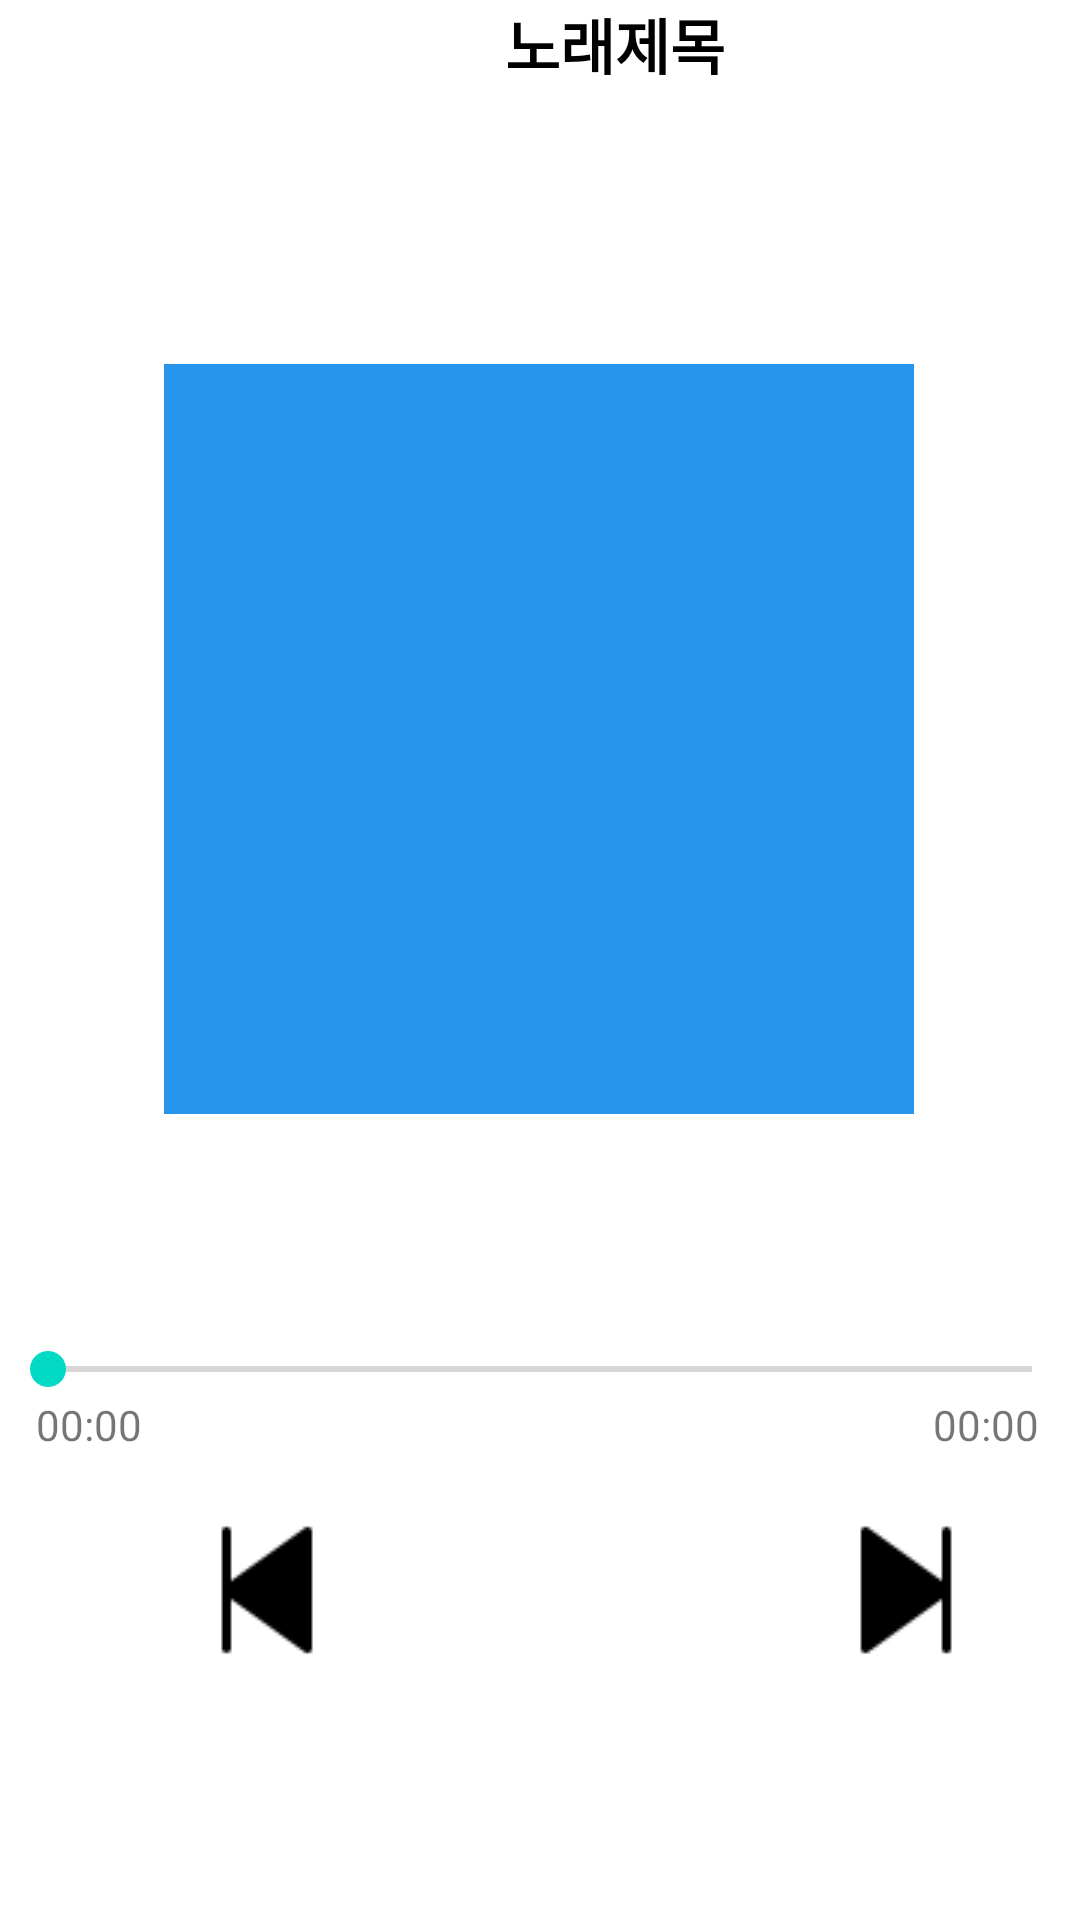

Icons on this 1080 x 1920 Android screen, each with the point to tap as (x=x, y=y):
bignext: (x=906, y=1590)
bigprev: (x=267, y=1590)
